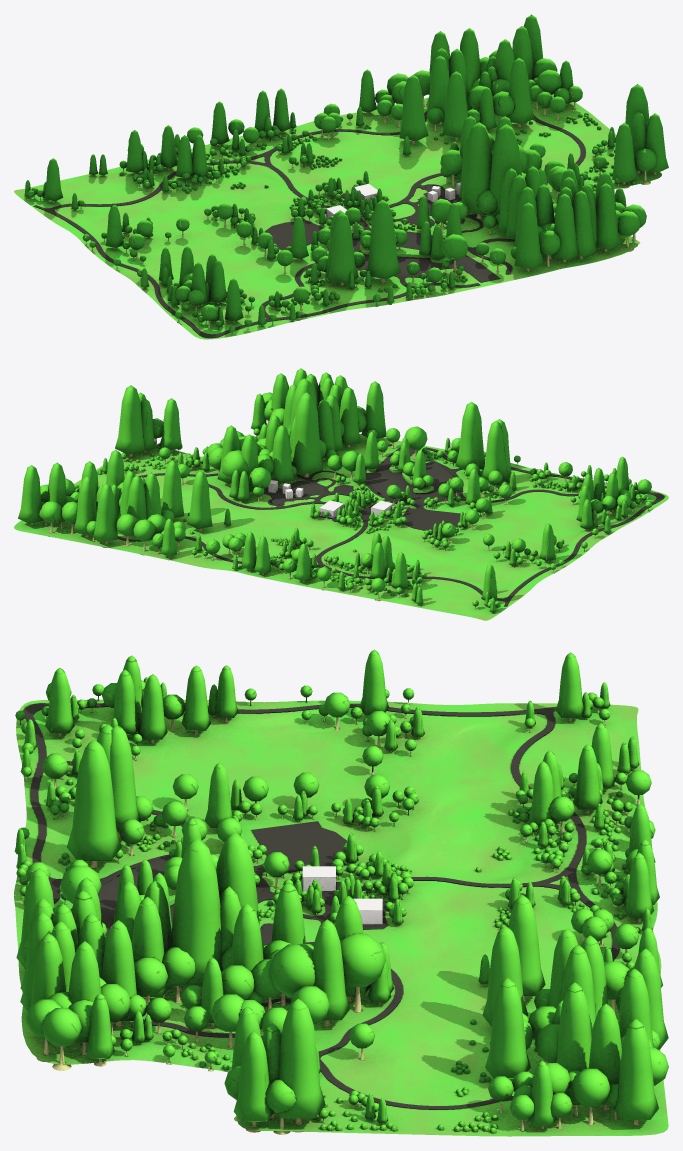
Rendered from park.glb.
The picture shows the model from 3 angles, top to bottom: view 1: azimuth 30°, elevation 25°; view 2: azimuth 150°, elevation 25°; view 3: azimuth 270°, elevation 25°; orthographic projection. The views are drawn at different scales.
Parts seen in each view (by area): view 1: Object_2, Object_4, Object_3; view 2: Object_4, Object_2, Object_3; view 3: Object_2, Object_4, Object_3.
Boxes of the visible parts, left/top/right/bottom form: Object_2: left=14, top=94, right=661, bottom=339; Object_4: left=24, top=14, right=646, bottom=332; Object_3: left=27, top=84, right=668, bottom=338; Object_4: left=18, top=368, right=652, bottom=612; Object_2: left=14, top=424, right=668, bottom=620; Object_3: left=30, top=385, right=664, bottom=610; Object_2: left=14, top=699, right=668, bottom=1136; Object_4: left=14, top=672, right=668, bottom=1126; Object_3: left=20, top=649, right=652, bottom=1134.
Bounding box in the file's own units: 319 × 60.27 × 215.
Materials: 1 (1 with a texture image).
